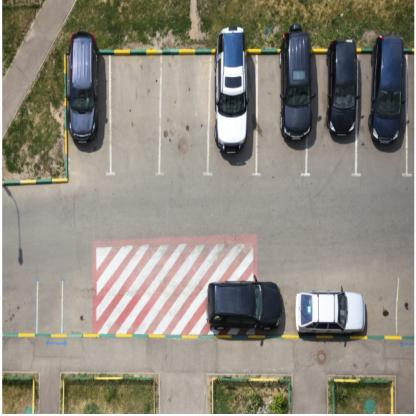Car: (217, 33, 257, 161), (69, 42, 104, 148), (301, 284, 367, 340), (369, 50, 407, 146), (271, 40, 307, 139), (328, 50, 357, 123)
Empty: (170, 57, 202, 161), (119, 59, 154, 152), (211, 286, 282, 328), (69, 281, 91, 328), (3, 288, 28, 328)
